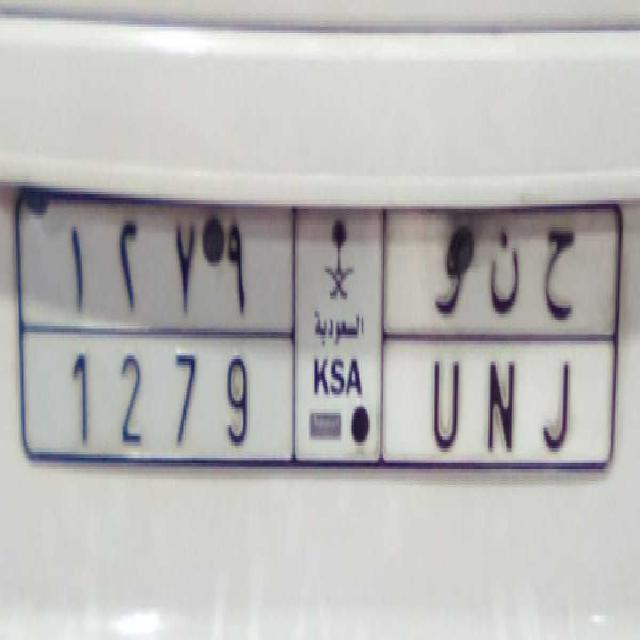license_plate: (32, 320, 583, 480)
